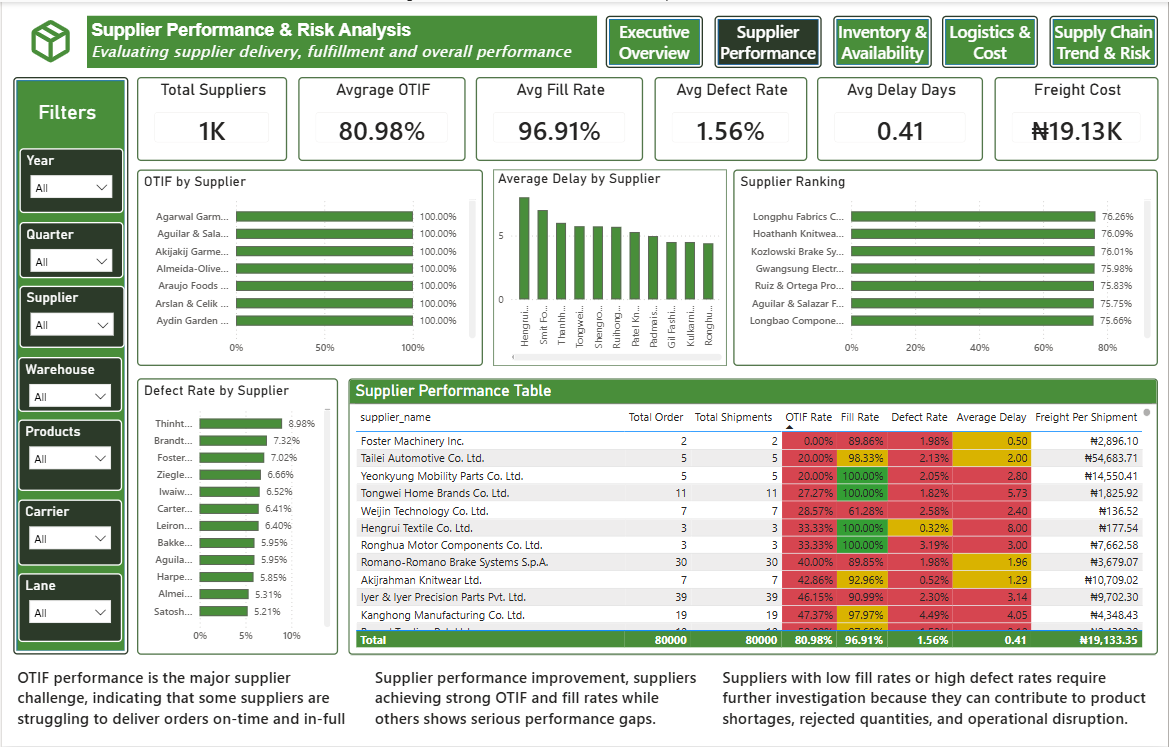

The dashboard page shown, as its layout file describes it:
{"tool":"powerbi","page":{"name":"Supplier Performance","canvas":[1410,900],"ordinal":1},"visuals":[{"type":"cardVisual","title":"Total Suppliers","fields":{"Data":["KPIs meansure.Total Supplier"]},"box":[163.3,90.7,181.4,101.3],"z":0},{"type":"cardVisual","title":"Avgrage OTIF","fields":{"Data":["KPIs meansure.OTIF Rate"]},"box":[357.6,90.7,202.6,101.3],"z":1000},{"type":"cardVisual","title":"Avg Fill Rate","fields":{"Data":["KPIs meansure.Fill Rate"]},"box":[573.2,90.7,202.6,101.3],"z":2000},{"type":"cardVisual","title":"Avg Delay Days","fields":{"Data":["KPIs meansure.Average Delay Days"]},"box":[986.2,90.7,201,101.3],"z":3000},{"type":"cardVisual","title":"Avg Defect Rate","fields":{"Data":["KPIs meansure.Defect Rate"]},"box":[788.7,90.7,184.4,101.3],"z":4000},{"type":"shape","box":[13.6,90.7,139.1,698.4],"z":5000},{"type":"slicer","title":"Year","fields":{"Values":["tblDate.year"]},"box":[21.2,176.9,125.5,78.6],"z":6000},{"type":"slicer","title":"Supplier","fields":{"Values":["tblSuppliers.supplier_name"]},"box":[21.2,343.1,127,75.6],"z":7000},{"type":"slicer","title":"Warehouse","fields":{"Values":["tblInventory_monthly.warehouse_code"]},"box":[19.7,428.5,125.5,66.5],"z":8000},{"type":"slicer","title":"Products","fields":{"Values":["tblProducts.product_category"]},"box":[19.7,504.9,125.5,86.2],"z":9000},{"type":"slicer","title":"Carrier","fields":{"Values":["tblShipments.carrier_id"]},"box":[19.7,600.9,125.5,80.1],"z":10000},{"type":"slicer","title":"Lane","fields":{"Values":["tblShipments.lane_id"]},"box":[19.7,690.8,125.5,83.1],"z":11000},{"type":"slicer","title":"Quarter","fields":{"Values":["tblDate.quarter"]},"box":[21.2,265.3,125.5,68],"z":12000},{"type":"textbox","box":[102.8,16.6,616.7,63.5],"z":13000},{"type":"shape","box":[730.1,16.6,117.9,63.5],"z":14000},{"type":"shape","box":[861.2,16.6,130,63.5],"z":15000},{"type":"shape","box":[1004.4,16.6,119.4,63.5],"z":16000},{"type":"shape","box":[1137.1,16.6,116.4,63.5],"z":17000},{"type":"shape","box":[1266.7,16.6,131.5,63.5],"z":18000},{"type":"shape","box":[19.7,102.8,123.9,60.5],"z":19000},{"type":"clusteredBarChart","title":"OTIF by Supplier","fields":{"Category":["tblSuppliers.supplier_name"],"Y":["KPIs meansure.OTIF Rate"]},"box":[163.3,202.6,418.7,237.3],"z":20000},{"type":"clusteredBarChart","title":"Defect Rate by Supplier","fields":{"Category":["tblSuppliers.supplier_name"],"Y":["KPIs meansure.Defect Rate"]},"box":[163.3,455,243.4,334.1],"z":21000},{"type":"columnChart","title":"Average Delay by Supplier","fields":{"Category":["tblSuppliers.supplier_name"],"Y":["KPIs meansure.Average Delay Days"]},"box":[594.1,202.6,282.7,237.3],"z":22000},{"type":"clusteredBarChart","title":"Supplier Ranking","fields":{"Category":["tblSuppliers.supplier_name"],"Y":["KPIs meansure.Supplier Score"]},"box":[884.3,202.6,513.9,237.3],"z":23000},{"type":"tableEx","title":"Supplier Performance  Table","fields":{"Values":["tblSuppliers.supplier_name","KPIs meansure.Total Order","KPIs meansure.Total Shipments","KPIs meansure.OTIF Rate","KPIs meansure.Fill Rate","KPIs meansure.Defect Rate","KPIs meansure.Average Delay Days","KPIs meansure.Freight Per Shipment"]},"box":[418.7,455,979.5,334.1],"z":24000},{"type":"cardVisual","title":"Freight Cost","fields":{"Data":["KPIs meansure.Freight Per Shipment"]},"box":[1200.2,90.7,198,101.3],"z":25000},{"type":"textbox","box":[866.1,798.1,532.1,92.2],"z":26000},{"type":"textbox","box":[13.6,798.1,415.7,92.2],"z":27000},{"type":"textbox","box":[445.9,798.1,409.6,92.2],"z":28000},{"type":"image","box":[13.6,16.6,90.7,62],"z":29000}]}

Visuals, with their boxes in screenshot pixels (x1, y1, x2, y2), scaled from the page's 1410x900 canvas onto the 1169x747 screenshot:
"Total Suppliers" cardVisual: box(135, 75, 286, 159)
"Avgrage OTIF" cardVisual: box(296, 75, 464, 159)
"Avg Fill Rate" cardVisual: box(475, 75, 643, 159)
"Avg Delay Days" cardVisual: box(818, 75, 984, 159)
"Avg Defect Rate" cardVisual: box(654, 75, 807, 159)
shape: box(11, 75, 127, 655)
"Year" slicer: box(18, 147, 122, 212)
"Supplier" slicer: box(18, 285, 123, 348)
"Warehouse" slicer: box(16, 356, 120, 411)
"Products" slicer: box(16, 419, 120, 491)
"Carrier" slicer: box(16, 499, 120, 565)
"Lane" slicer: box(16, 573, 120, 642)
"Quarter" slicer: box(18, 220, 122, 277)
textbox: box(85, 14, 597, 66)
shape: box(605, 14, 703, 66)
shape: box(714, 14, 822, 66)
shape: box(833, 14, 932, 66)
shape: box(943, 14, 1039, 66)
shape: box(1050, 14, 1159, 66)
shape: box(16, 85, 119, 136)
"OTIF by Supplier" clusteredBarChart: box(135, 168, 483, 365)
"Defect Rate by Supplier" clusteredBarChart: box(135, 378, 337, 655)
"Average Delay by Supplier" columnChart: box(493, 168, 727, 365)
"Supplier Ranking" clusteredBarChart: box(733, 168, 1159, 365)
"Supplier Performance  Table" tableEx: box(347, 378, 1159, 655)
"Freight Cost" cardVisual: box(995, 75, 1159, 159)
textbox: box(718, 662, 1159, 739)
textbox: box(11, 662, 356, 739)
textbox: box(370, 662, 709, 739)
image: box(11, 14, 86, 65)
